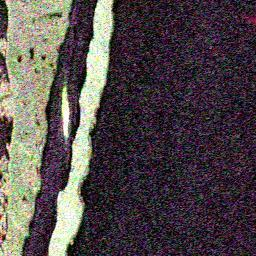Ship: (59, 85, 73, 135)
